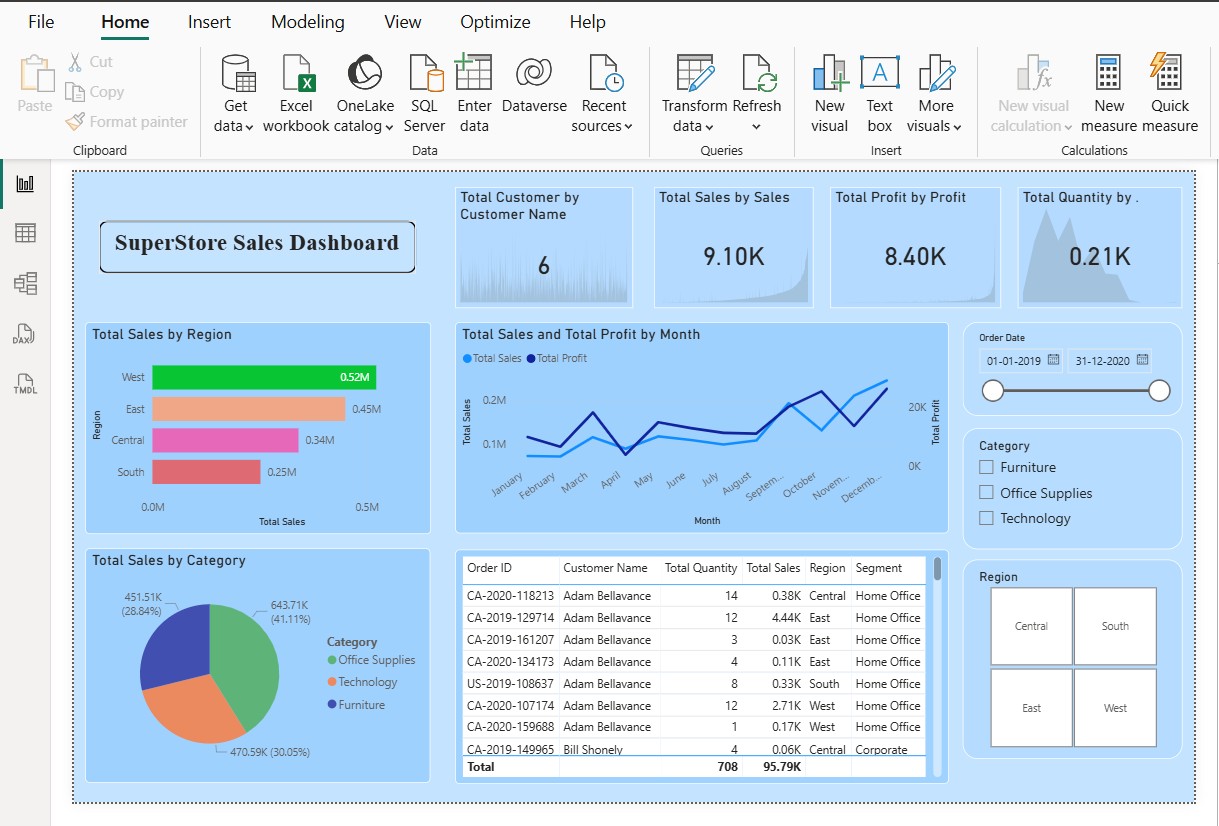

The dashboard page shown, as its layout file describes it:
{"tool":"powerbi","page":{"name":"Page 1","canvas":[1280,720],"ordinal":0},"visuals":[{"type":"clusteredBarChart","fields":{"Y":["Sum(SuperStore_Sales_Dataset.Sales)"],"Category":["SuperStore_Sales_Dataset.Region"]},"box":[12.5,171.2,395,242.5],"z":0},{"type":"kpi","fields":{"TrendLine":["SuperStore_Sales_Dataset.Sales"],"Indicator":["Sum(SuperStore_Sales_Dataset.Sales)"]},"box":[662.8,16.5,182.5,138.6],"z":1000},{"type":"kpi","fields":{"TrendLine":["SuperStore_Sales_Dataset.Profit"],"Indicator":["Sum(SuperStore_Sales_Dataset.Profit)"]},"box":[864.5,16.5,194.9,138.6],"z":2000},{"type":"kpi","fields":{"Indicator":["Sum(SuperStore_Sales_Dataset.Quantity)"],"TrendLine":["SuperStore_Sales_Dataset.Quantity"]},"box":[1078.6,16.5,188,138.6],"z":3000},{"type":"lineChart","fields":{"Y":["Sum(SuperStore_Sales_Dataset.Sales)"],"Category":["SuperStore_Sales_Dataset.Order Date.Variation.Date Hierarchy.Month"],"Y2":["Sum(SuperStore_Sales_Dataset.Profit)"]},"box":[436.1,170.8,563.9,241.7],"z":4000},{"type":"pieChart","fields":{"Category":["SuperStore_Sales_Dataset.Category"],"Y":["Sum(SuperStore_Sales_Dataset.Sales)"]},"box":[12.5,430.6,394.4,268.1],"z":5000},{"type":"slicer","fields":{"Values":["SuperStore_Sales_Dataset.Order Date"]},"box":[1015.3,170.8,251.4,106.9],"z":6000},{"type":"slicer","fields":{"Values":["SuperStore_Sales_Dataset.Category"]},"box":[1015.4,292.3,251.1,138.6],"z":7000},{"type":"slicer","fields":{"Values":["SuperStore_Sales_Dataset.Region"]},"box":[1015.4,443.2,251.1,227.8],"z":8000},{"type":"textbox","box":[28.8,56.3,362.3,60.4],"z":9000},{"type":"tableEx","fields":{"Values":["SuperStore_Sales_Dataset.Order ID","SuperStore_Sales_Dataset.Customer Name","Sum(SuperStore_Sales_Dataset.Quantity)","Sum(SuperStore_Sales_Dataset.Sales)","SuperStore_Sales_Dataset.Region","SuperStore_Sales_Dataset.Segment"]},"box":[436.1,431.9,563.9,268.1],"z":10000},{"type":"kpi","fields":{"Indicator":["CountNonNull(SuperStore_Sales_Dataset.Customer Name)"],"TrendLine":["SuperStore_Sales_Dataset.Customer Name"]},"box":[436.4,16.5,203.1,138.6],"z":11000}]}

Visuals, with their boxes on the page's 1280x720 design canvas (x1, y1, x2, y2). These are canvas units, not pixel positions in the 1219x826 screenshot, which may show the page scaled, cropped or inside an application window:
clusteredBarChart - Sum(SuperStore_Sales_Dataset.Sales) x SuperStore_Sales_Dataset.Region: <box>12,171,408,414</box>
kpi - SuperStore_Sales_Dataset.Sales x Sum(SuperStore_Sales_Dataset.Sales): <box>663,16,845,155</box>
kpi - SuperStore_Sales_Dataset.Profit x Sum(SuperStore_Sales_Dataset.Profit): <box>864,16,1059,155</box>
kpi - Sum(SuperStore_Sales_Dataset.Quantity) x SuperStore_Sales_Dataset.Quantity: <box>1079,16,1267,155</box>
lineChart - Sum(SuperStore_Sales_Dataset.Sales) x SuperStore_Sales_Dataset.Order Date.Variation.Date Hierarchy.Month: <box>436,171,1000,412</box>
pieChart - SuperStore_Sales_Dataset.Category x Sum(SuperStore_Sales_Dataset.Sales): <box>12,431,407,699</box>
slicer - SuperStore_Sales_Dataset.Order Date: <box>1015,171,1267,278</box>
slicer - SuperStore_Sales_Dataset.Category: <box>1015,292,1266,431</box>
slicer - SuperStore_Sales_Dataset.Region: <box>1015,443,1266,671</box>
textbox: <box>29,56,391,117</box>
tableEx - SuperStore_Sales_Dataset.Order ID x SuperStore_Sales_Dataset.Customer Name: <box>436,432,1000,700</box>
kpi - CountNonNull(SuperStore_Sales_Dataset.Customer Name) x SuperStore_Sales_Dataset.Customer Name: <box>436,16,640,155</box>
